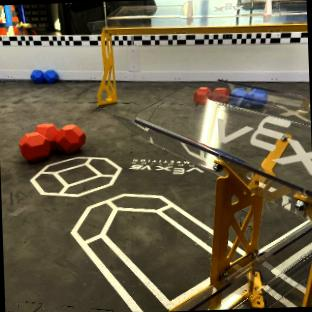V5_BLUE: (230, 88, 267, 105), (30, 70, 57, 84)
V5_RED: (19, 122, 86, 163), (194, 87, 228, 104)
